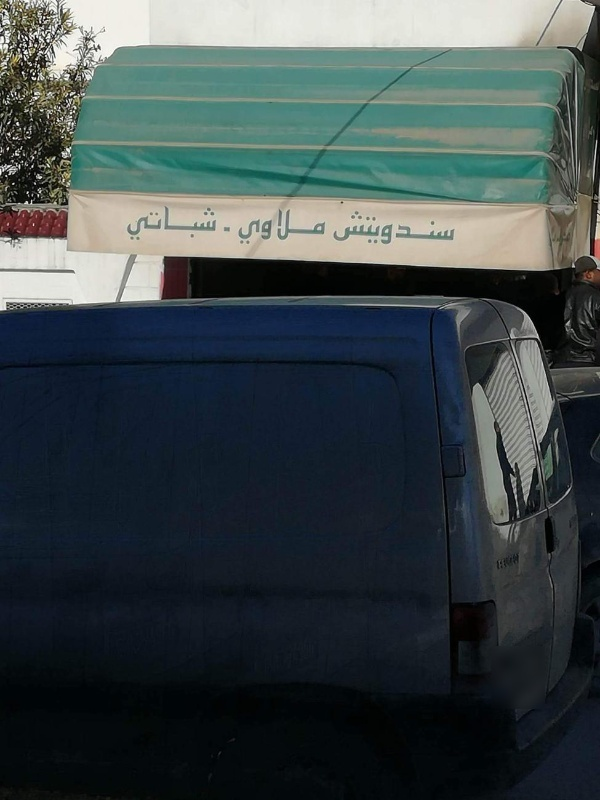text: (241, 209, 256, 245), (257, 209, 272, 245), (273, 209, 288, 245), (289, 209, 304, 245), (305, 209, 320, 245), (129, 205, 144, 241), (145, 205, 160, 241), (161, 205, 176, 241), (177, 205, 192, 241), (193, 205, 208, 241), (337, 210, 352, 245), (353, 210, 368, 245), (369, 210, 384, 245), (385, 210, 400, 245), (401, 210, 416, 245), (417, 210, 432, 245), (433, 210, 448, 245), (209, 205, 217, 241), (449, 210, 457, 245), (497, 552, 512, 570), (548, 228, 560, 247), (321, 209, 327, 245), (561, 228, 571, 247), (513, 552, 521, 570), (332, 210, 336, 245), (237, 209, 240, 245), (126, 205, 128, 241), (225, 227, 231, 232)
